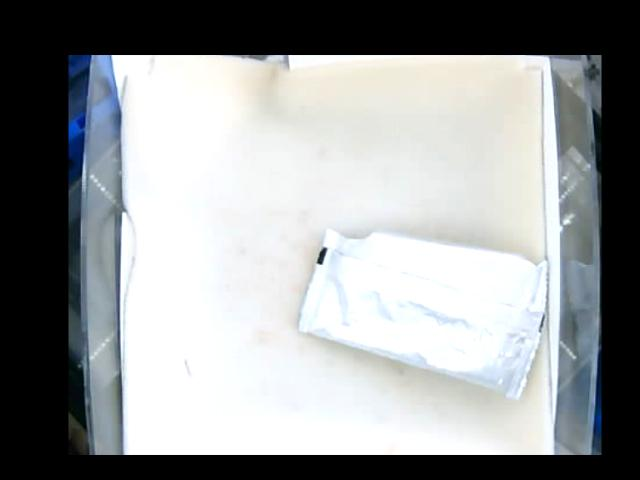Medicine: (300, 227, 555, 395)
